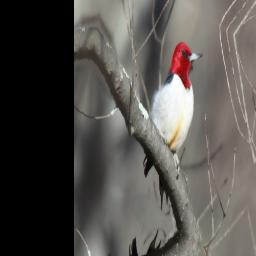Woodpecker: (134, 28, 205, 224)
